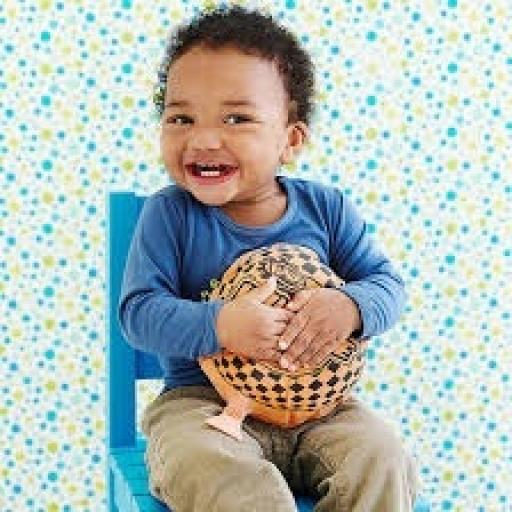laughing: (108, 2, 434, 510)
